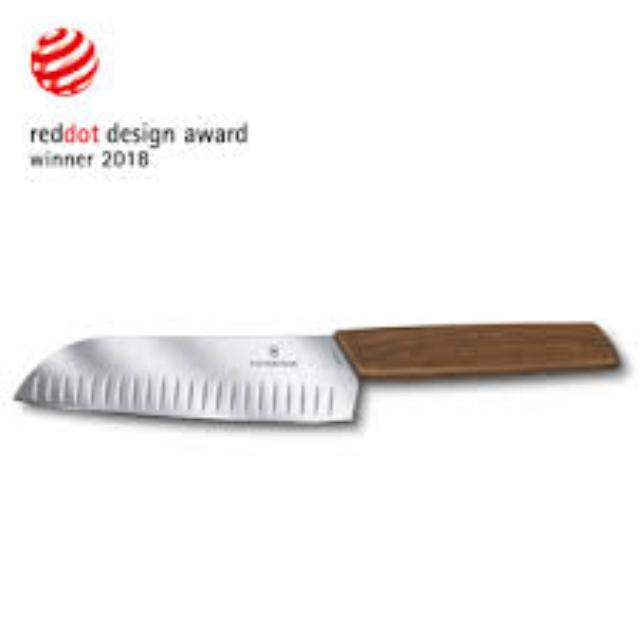knife: (12, 318, 620, 424)
